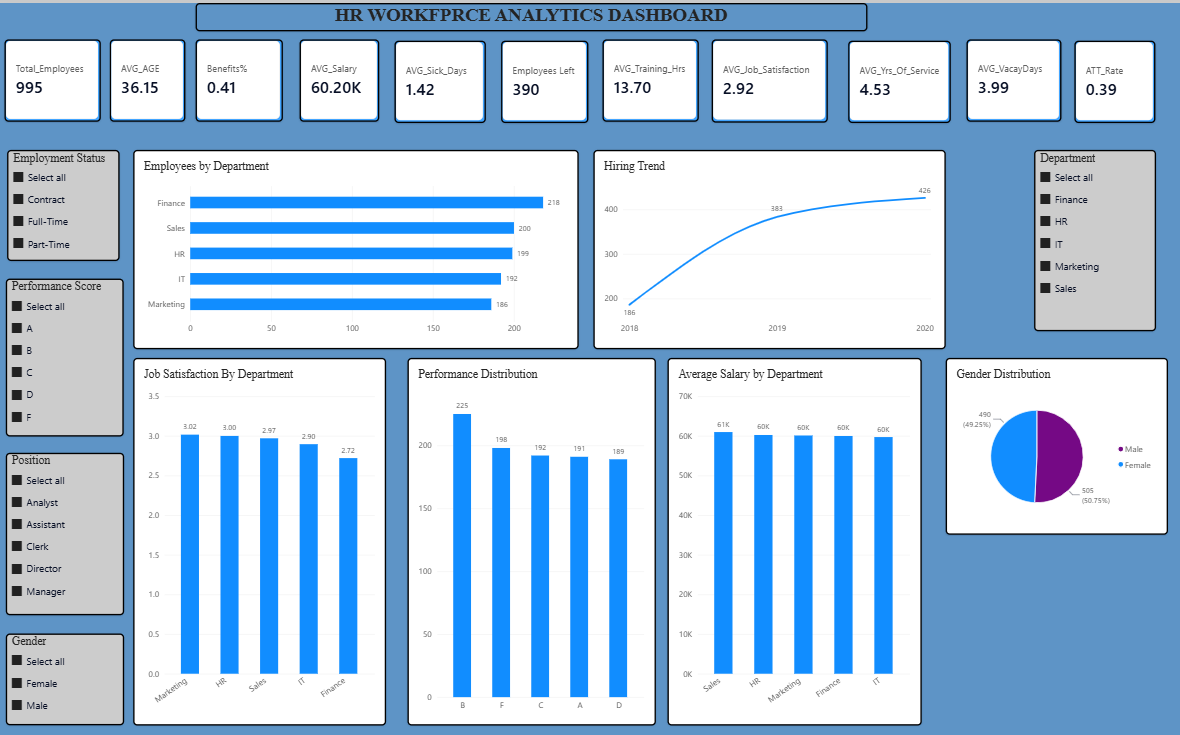

The page's visual inventory and layout, read from the dashboard file:
{"tool":"powerbi","page":{"name":"Page 1","canvas":[2020,1250],"ordinal":0},"visuals":[{"type":"cardVisual","fields":{"Data":["HR_DATABASE.Total_Employees"]},"box":[10.9,62.5,164.6,140.5],"z":0},{"type":"cardVisual","fields":{"Data":["HR_DATABASE.AVG_AGE"]},"box":[192.2,62.5,129.5,140.5],"z":1},{"type":"cardVisual","fields":{"Data":["HR_DATABASE.Benefits%"]},"box":[338.8,63.3,149,140.8],"z":2},{"type":"cardVisual","fields":{"Data":["HR_DATABASE.AVG_Salary"]},"box":[516.3,63.3,136.1,140.5],"z":3},{"type":"cardVisual","fields":{"Data":["HR_DATABASE.AVG_Sick_Days"]},"box":[677.6,65.3,155.9,140.5],"z":4},{"type":"cardVisual","fields":{"Data":["HR_DATABASE.Employees Left"]},"box":[859.2,65.3,149.3,140.5],"z":5},{"type":"cardVisual","fields":{"Data":["HR_DATABASE.AVG_Training_Hrs"]},"box":[1032.7,63.3,164.6,140.5],"z":6},{"type":"cardVisual","fields":{"Data":["HR_DATABASE.AVG_Job_Satisfaction"]},"box":[1220.4,61.2,198.4,141.9],"z":7},{"type":"cardVisual","fields":{"Data":["HR_DATABASE.AVG_Yrs_Of_Service"]},"box":[1453.1,65.3,175.6,140.5],"z":8},{"type":"cardVisual","fields":{"Data":["HR_DATABASE.AVG_VacayDays_Rem"]},"box":[1655.1,63.3,162.4,140.5],"z":9},{"type":"cardVisual","fields":{"Data":["HR_DATABASE.ATT_Rate"]},"box":[1840.8,65.3,138.3,140.5],"z":10},{"type":"slicer","fields":{"Values":["HR_DATABASE.Employment Status"]},"box":[16.3,251,191.9,190.3],"z":11},{"type":"slicer","fields":{"Values":["HR_DATABASE.Performance Score"]},"box":[12.2,471.4,201.6,270.3],"z":12},{"type":"slicer","fields":{"Values":["HR_DATABASE.Position"]},"box":[14.3,769.4,202,277.6],"z":13},{"type":"slicer","fields":{"Values":["HR_DATABASE.Gender"]},"box":[12.2,1077.6,202,157.1],"z":14},{"type":"slicer","fields":{"Values":["HR_DATABASE.Department"]},"box":[1770.3,251.4,208.2,310.2],"z":15},{"type":"clusteredBarChart","title":" Employees by Department","fields":{"Y":["CountNonNull(HR_DATABASE.Employee ID)"],"Category":["HR_DATABASE.Department"]},"box":[271.4,251,761.2,340.8],"z":16},{"type":"lineChart","title":"Hiring Trend","fields":{"Y":["CountNonNull(HR_DATABASE.Employee ID)"],"Category":["HR_DATABASE.Joining Date.Variation.Date Hierarchy.Year"]},"box":[1077.6,251,602,340.8],"z":17},{"type":"clusteredColumnChart","title":"Job Satisfaction By Department","fields":{"Y":["HR_DATABASE.AVG_Job_Satisfaction"],"Category":["HR_DATABASE.Department"]},"box":[271.4,606.1,432.7,628.6],"z":18},{"type":"clusteredColumnChart","title":"Performance Distribution","fields":{"Y":["CountNonNull(HR_DATABASE.Employee ID)"],"Category":["HR_DATABASE.Performance Score"]},"box":[732.7,606.1,424.5,628.6],"z":19},{"type":"clusteredColumnChart","title":"Average Salary by Department","fields":{"Y":["HR_DATABASE.AVG_Salary"],"Category":["HR_DATABASE.Department"]},"box":[1220.4,606.1,434.7,628.6],"z":20},{"type":"pieChart","title":"Gender Distribution","fields":{"Y":["CountNonNull(HR_DATABASE.Employee ID)"],"Category":["HR_DATABASE.Gender"]},"box":[1680,606.7,317.8,302.2],"z":21},{"type":"textbox","box":[337.5,0,1148.4,48.4],"z":22}]}

Visuals, with their boxes in screenshot pixels (x1, y1, x2, y2), scaled from the page's 2020x1250 canvas onto the 1180x735 screenshot:
cardVisual - HR_DATABASE.Total_Employees: [6, 37, 103, 119]
cardVisual - HR_DATABASE.AVG_AGE: [112, 37, 188, 119]
cardVisual - HR_DATABASE.Benefits%: [198, 37, 285, 120]
cardVisual - HR_DATABASE.AVG_Salary: [302, 37, 381, 120]
cardVisual - HR_DATABASE.AVG_Sick_Days: [396, 38, 487, 121]
cardVisual - HR_DATABASE.Employees Left: [502, 38, 589, 121]
cardVisual - HR_DATABASE.AVG_Training_Hrs: [603, 37, 699, 120]
cardVisual - HR_DATABASE.AVG_Job_Satisfaction: [713, 36, 829, 119]
cardVisual - HR_DATABASE.AVG_Yrs_Of_Service: [849, 38, 951, 121]
cardVisual - HR_DATABASE.AVG_VacayDays_Rem: [967, 37, 1062, 120]
cardVisual - HR_DATABASE.ATT_Rate: [1075, 38, 1156, 121]
slicer - HR_DATABASE.Employment Status: [10, 148, 122, 259]
slicer - HR_DATABASE.Performance Score: [7, 277, 125, 436]
slicer - HR_DATABASE.Position: [8, 452, 126, 616]
slicer - HR_DATABASE.Gender: [7, 634, 125, 726]
slicer - HR_DATABASE.Department: [1034, 148, 1156, 330]
" Employees by Department" clusteredBarChart: [159, 148, 603, 348]
"Hiring Trend" lineChart: [629, 148, 981, 348]
"Job Satisfaction By Department" clusteredColumnChart: [159, 356, 411, 726]
"Performance Distribution" clusteredColumnChart: [428, 356, 676, 726]
"Average Salary by Department" clusteredColumnChart: [713, 356, 967, 726]
"Gender Distribution" pieChart: [981, 357, 1167, 534]
textbox: [197, 0, 868, 28]
